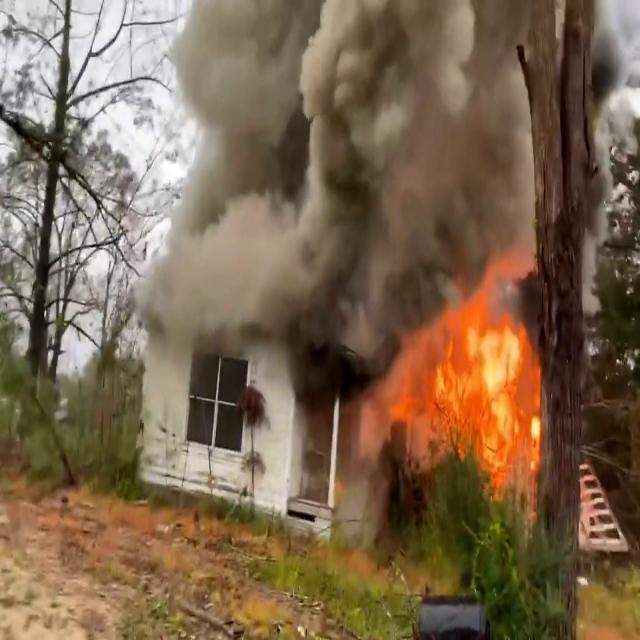Fire: (404, 278, 545, 488)
Smoke: (136, 0, 624, 328)
